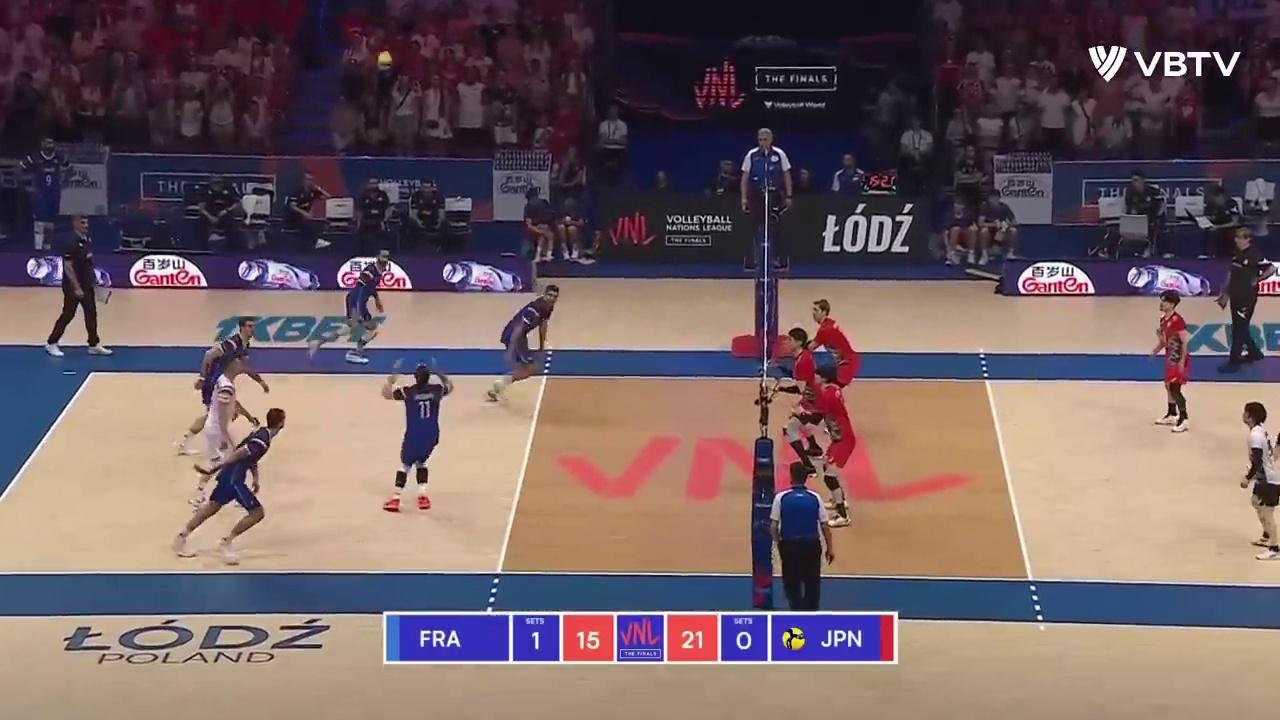ball: (378, 50, 393, 72)
